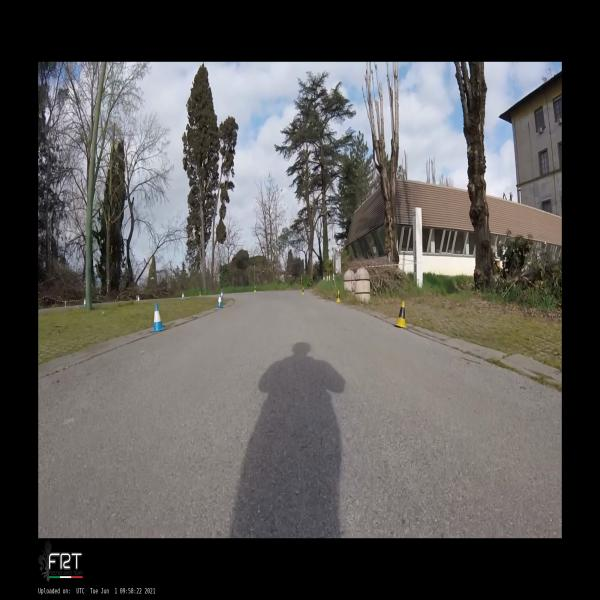blue_cone: (149, 303, 167, 332), (216, 294, 224, 307), (83, 297, 86, 308), (181, 292, 184, 299), (221, 290, 223, 299), (138, 294, 140, 301)
yellow_cone: (394, 302, 408, 328), (336, 290, 341, 302), (301, 287, 305, 295), (254, 286, 256, 292), (136, 295, 138, 301), (199, 291, 201, 296), (65, 302, 66, 307)
